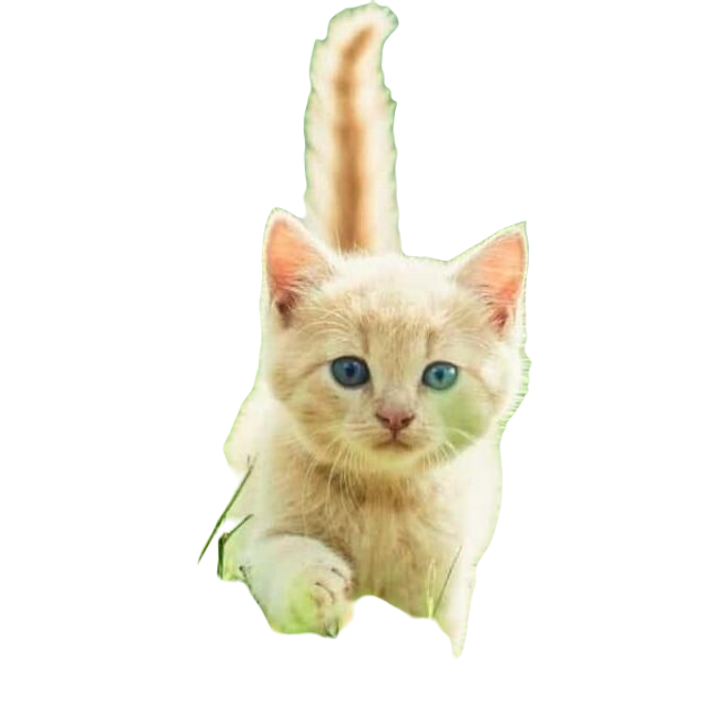Cat: (178, 1, 547, 659)
